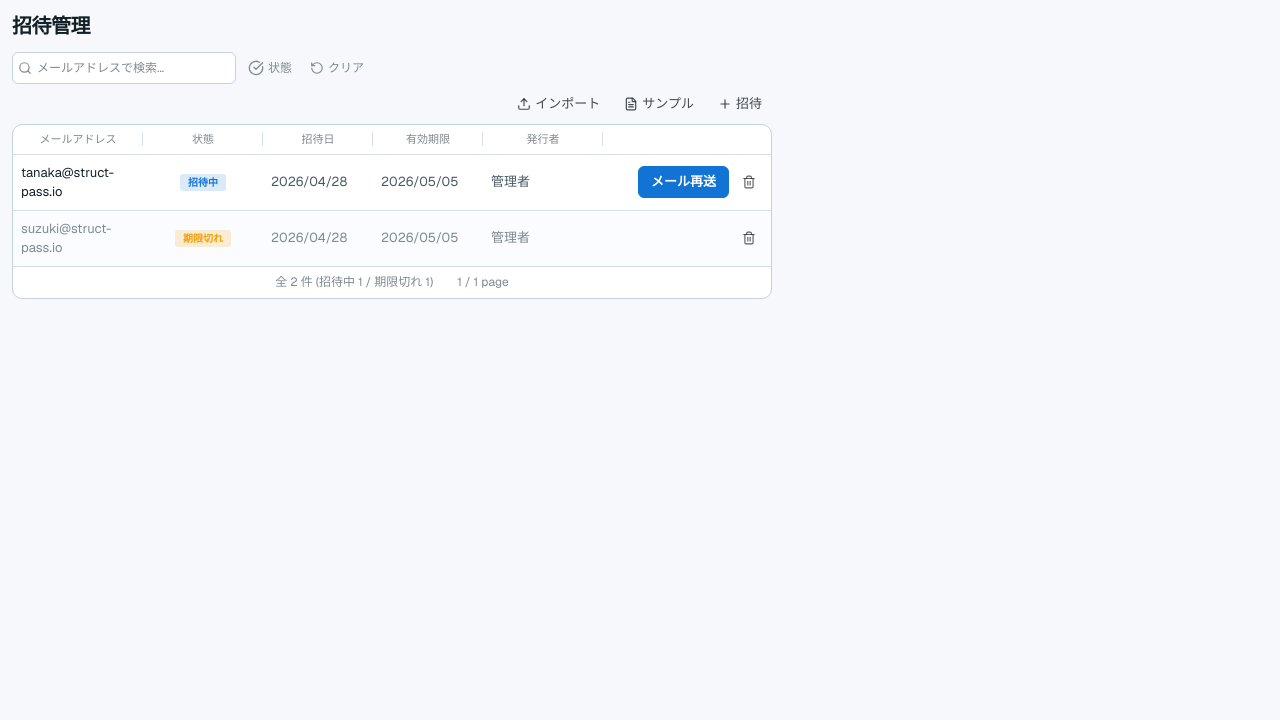
Test: InvitesScreen › createInvite が 503 を返すと SMTP バナーを表示し「招待」ボタンを無効化する
Click the button with aria-label "招待メールを発行" at [740, 104], box [708,88,772,120]
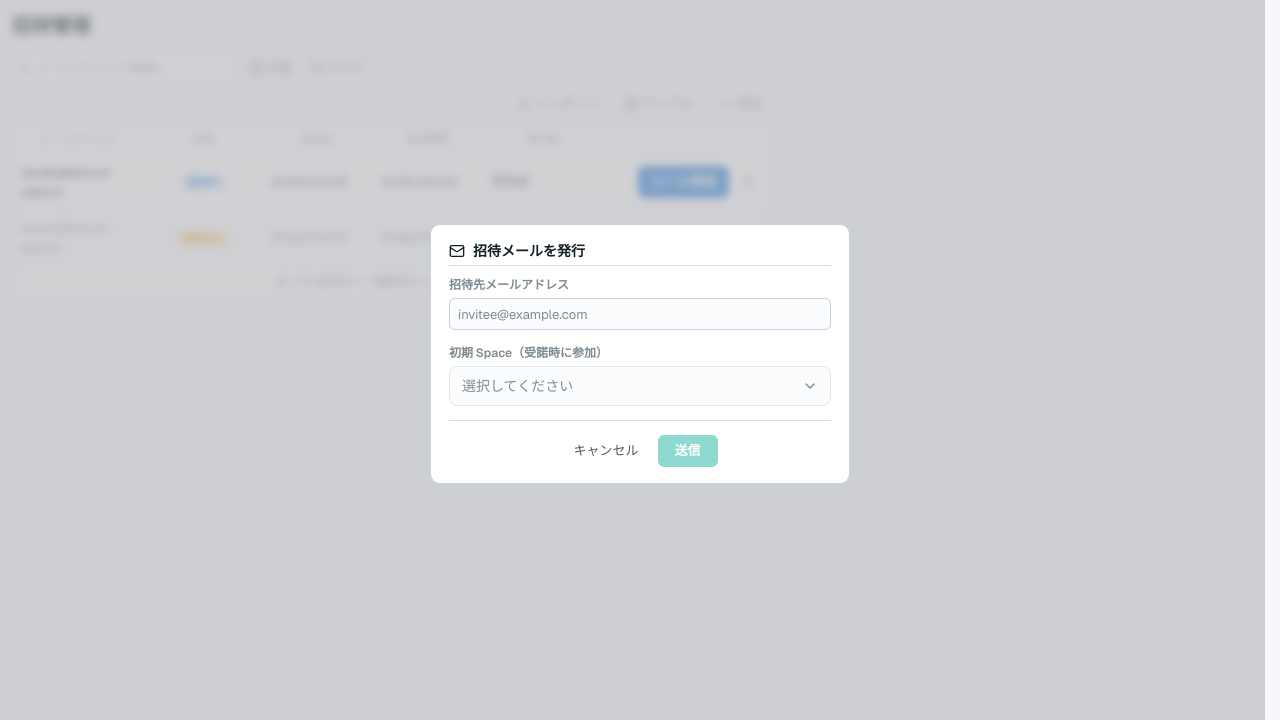
Type "smtp@example.com" into the field labelled "招待先メールアドレス" at [640, 314], box [449,298,831,330]
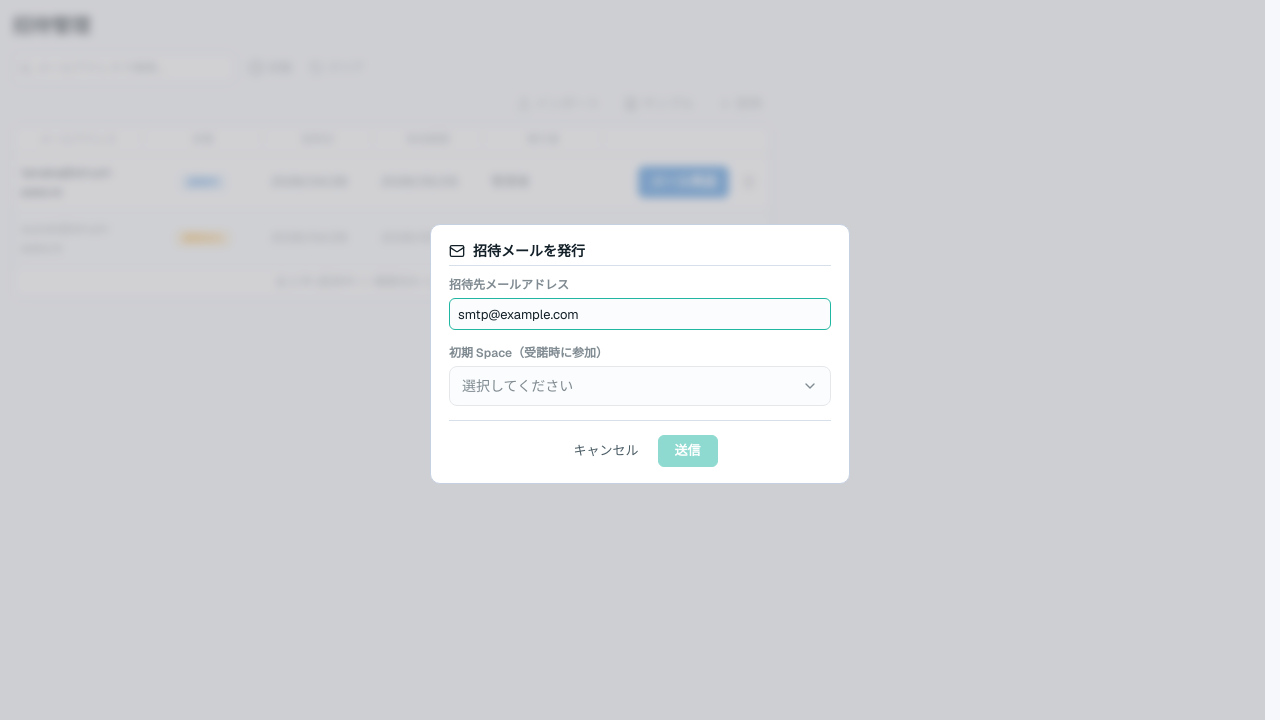
Click the button named "初期 Space（受諾時に参加）" at [518, 386], box [449,366,831,406]
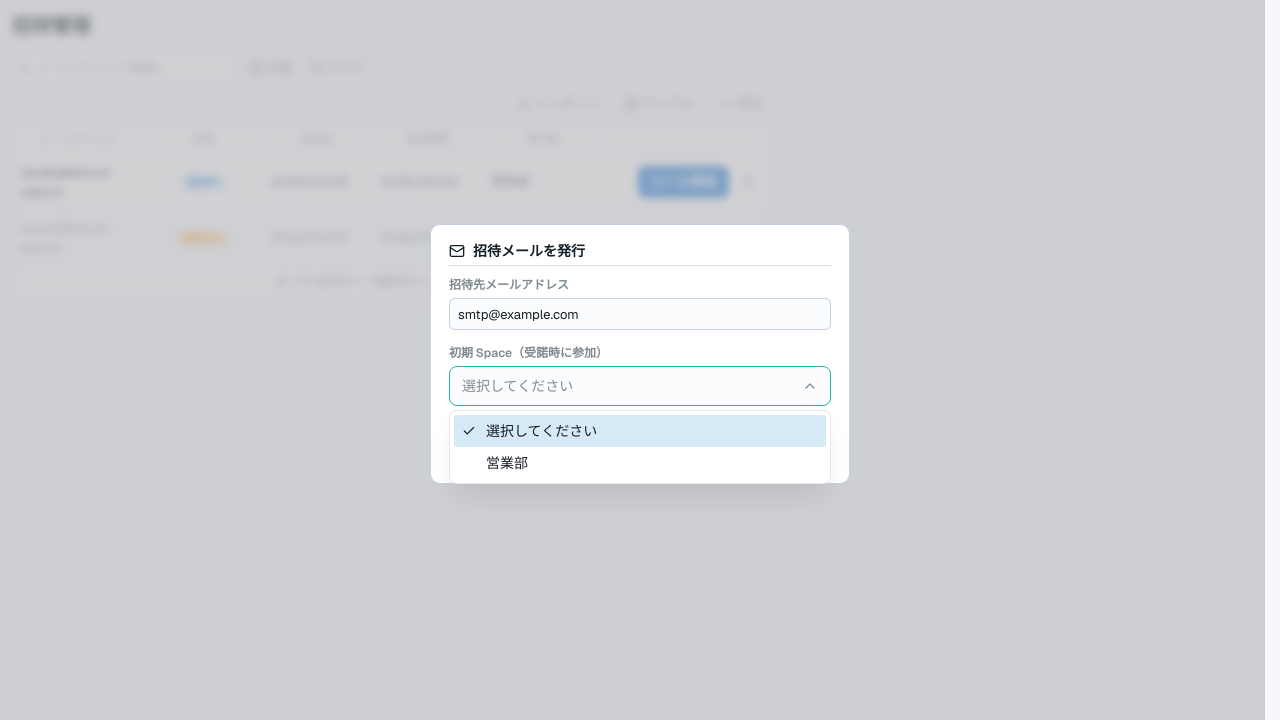
Click the option "営業部" at [507, 463], box [486,454,528,472]
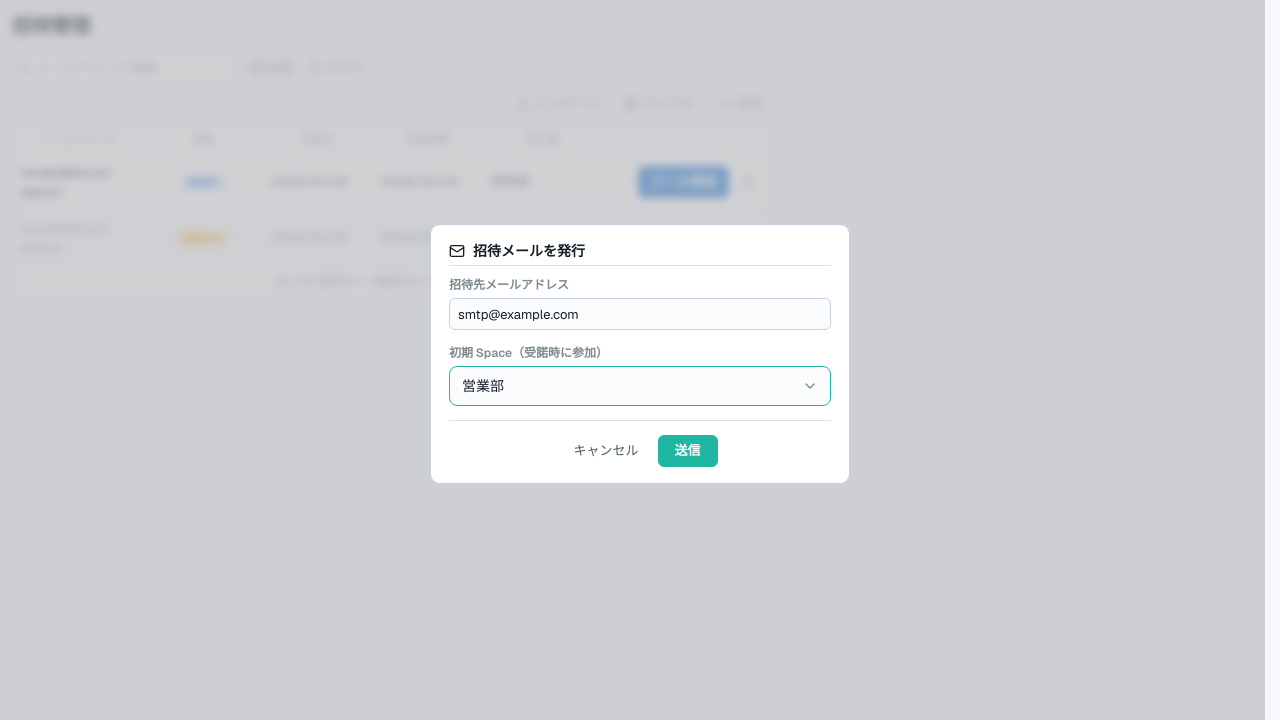
Click the button "送信" at [688, 451], box [658,435,718,467]
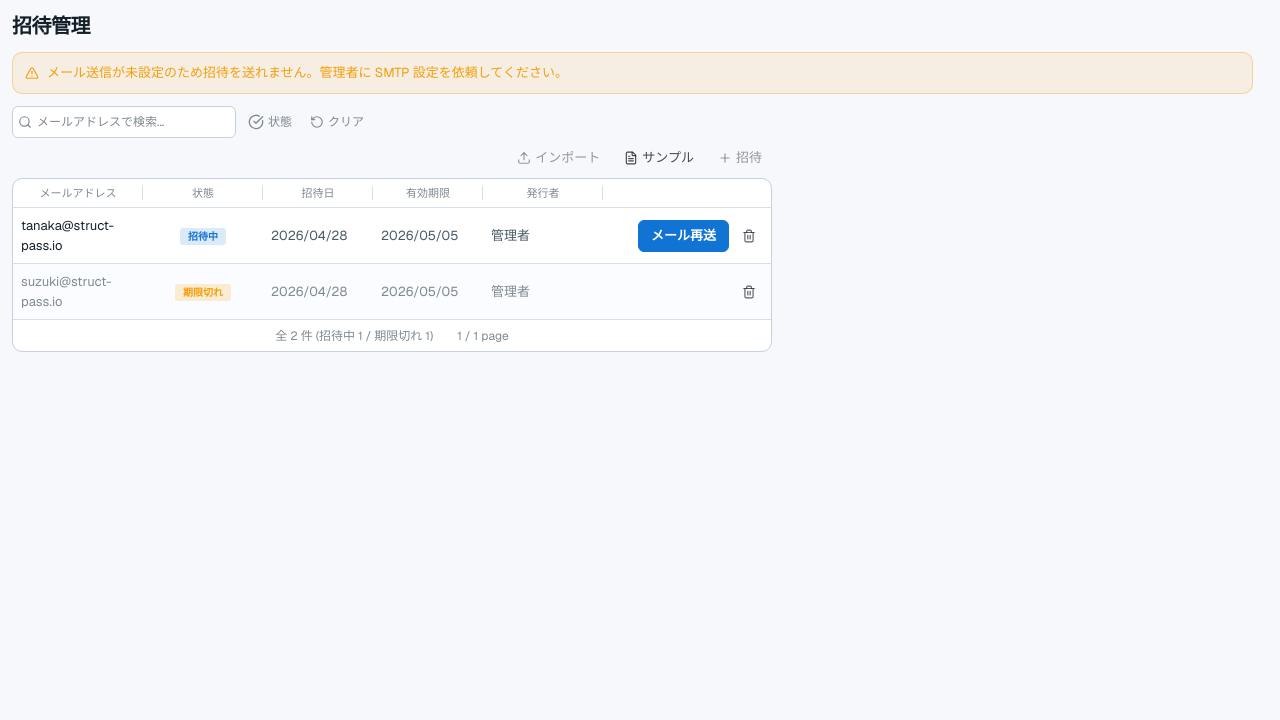
Expected: the button with aria-label "招待メールを発行" is disabled, [708,142,772,174]
Expected: the text "メール送信が未設定のため招待を送れません。管理者に SMTP 設定を依頼してください。" is shown, [47,63,568,82]
